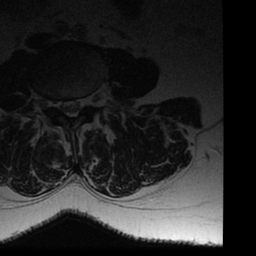CCS_normal: (65, 91, 75, 126)
LFS_normal: (82, 88, 93, 115)
LLS_normal: (75, 91, 83, 119)
RFS_normal: (49, 88, 59, 116)
RLS_stenosis: (58, 91, 66, 119)
